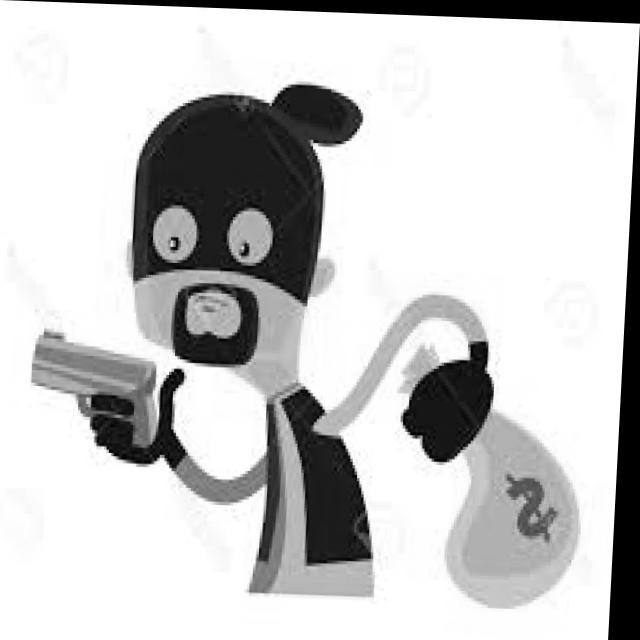handgun: (33, 321, 170, 450)
